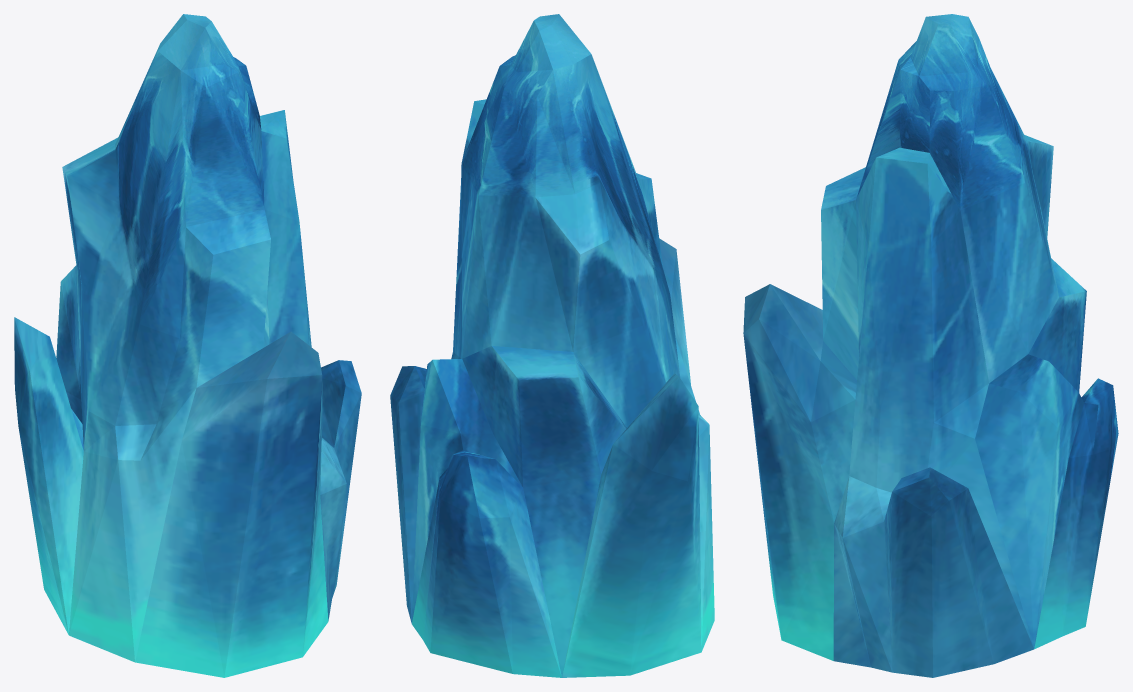
The model's file is pillar_of_ice.glb.
The picture shows the model from 3 angles, left to right: view 1: azimuth 30°, elevation 25°; view 2: azimuth 150°, elevation 25°; view 3: azimuth 270°, elevation 25°; orthographic projection. The views are drawn at different scales.
Parts seen in each view (by area): view 1: IcePillar; view 2: IcePillar; view 3: IcePillar.
Boxes of the visible parts, x1,y1,x2,y2 form: IcePillar: (14,14,361,677); IcePillar: (390,14,714,677); IcePillar: (743,14,1118,677).
Size of the model in its own units: 189 by 345 by 193.
Materials: 1 (1 with a texture image).
